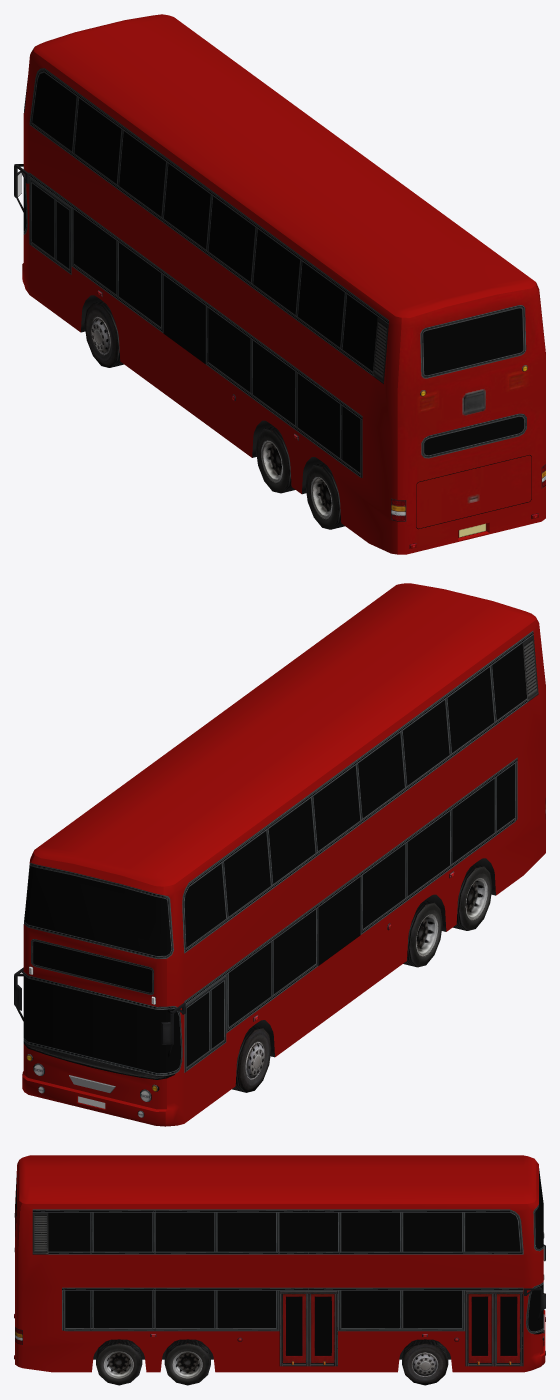
Rendered from Double_Decker_Bus_V2.fbx.
3 views of the same model, one above another, from view 1: azimuth 30°, elevation 25°; view 2: azimuth 150°, elevation 25°; view 3: azimuth 270°, elevation 25° (orthographic). The views are drawn at different scales.
Visible parts, largest first — view 1: DoubleDecker_Body, DeckerBus_Windows_Glass, Decker_Tire_2, Decker_Tire_3, Decker_Tire_1; view 2: DoubleDecker_Body, DeckerBus_Windows_Glass, Decker_Tire_1, Decker_Tire_2, Decker_Tire_3; view 3: DoubleDecker_Body, DeckerBus_Windows_Glass, Door (×4), Glass (×4), Decker_Tire_5, Decker_Tire_6, Decker_Tire_4.
Part boxes in pixels (x1=…): DoubleDecker_Body: x1=14, y1=14, x2=545, y2=554; DeckerBus_Windows_Glass: x1=23, y1=72, x2=523, y2=472; Decker_Tire_2: x1=256, y1=426, x2=295, y2=493; Decker_Tire_3: x1=305, y1=462, x2=344, y2=529; Decker_Tire_1: x1=84, y1=301, x2=123, y2=367; DoubleDecker_Body: x1=14, y1=583, x2=545, y2=1126; DeckerBus_Windows_Glass: x1=23, y1=643, x2=526, y2=1072; Decker_Tire_1: x1=232, y1=1025, x2=271, y2=1092; Decker_Tire_2: x1=403, y1=900, x2=442, y2=967; Decker_Tire_3: x1=453, y1=864, x2=492, y2=930; DoubleDecker_Body: x1=14, y1=1155, x2=545, y2=1372; DeckerBus_Windows_Glass: x1=15, y1=1168, x2=543, y2=1331; Door (×4): x1=279, y1=1290, x2=523, y2=1366; Glass (×4): x1=286, y1=1297, x2=516, y2=1355; Decker_Tire_5: x1=164, y1=1339, x2=210, y2=1385; Decker_Tire_6: x1=402, y1=1339, x2=448, y2=1385; Decker_Tire_4: x1=96, y1=1339, x2=142, y2=1385.
Bounding box in the file's own units: 22.93 × 36.23 × 95.4.
